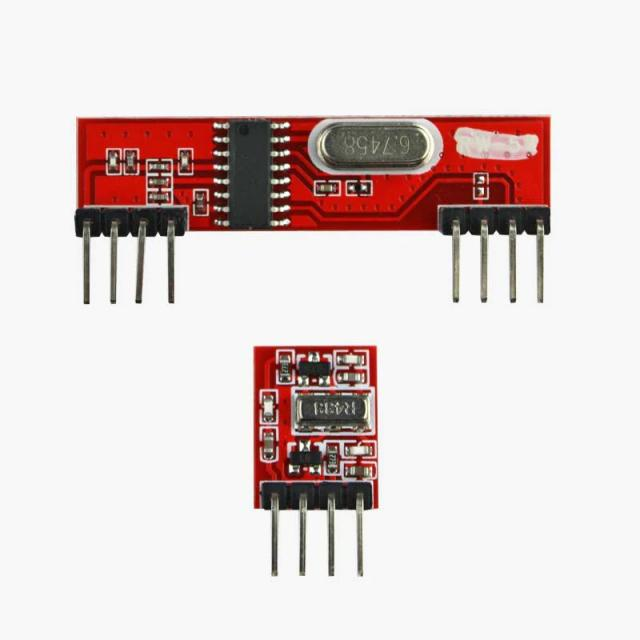4439: (286, 441, 320, 475), (297, 358, 331, 382)
IC: (222, 117, 290, 230)
capacitor 1V5: (348, 445, 378, 459), (348, 466, 377, 480), (337, 352, 368, 365), (336, 372, 368, 384), (262, 432, 275, 458), (316, 184, 340, 196), (262, 396, 274, 420), (148, 161, 170, 173), (150, 179, 170, 188), (108, 153, 119, 169), (152, 192, 170, 201), (196, 194, 205, 212), (126, 153, 134, 173), (180, 156, 189, 173)
clock Q1: (311, 117, 432, 174), (298, 385, 375, 436)
connector -5v-: (431, 204, 563, 316), (259, 480, 374, 586), (68, 208, 188, 302)
resistor IR1: (325, 443, 338, 472), (350, 184, 371, 194), (281, 358, 291, 378)
